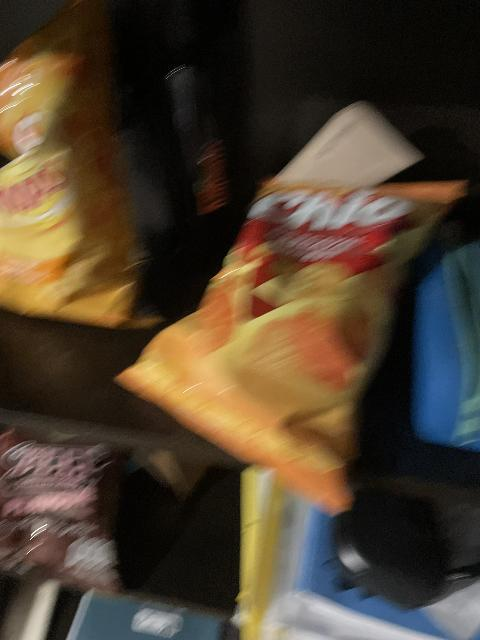Chio Cascaval 125g: (116, 181, 461, 514)
Chio Hula Hoops Cheese 70g: (1, 4, 162, 327)
Lays Beef Grilled Ribs 125g: (0, 431, 129, 593)
